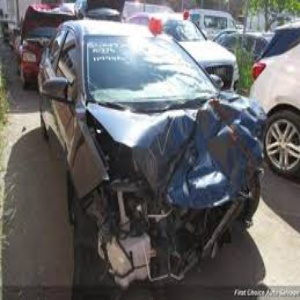bonnet: (117, 99, 265, 203)
